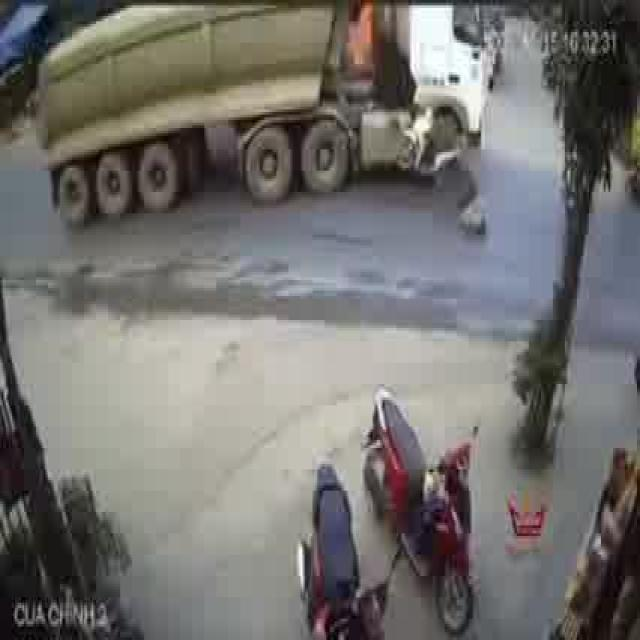multiple_accident: (246, 0, 496, 244)
